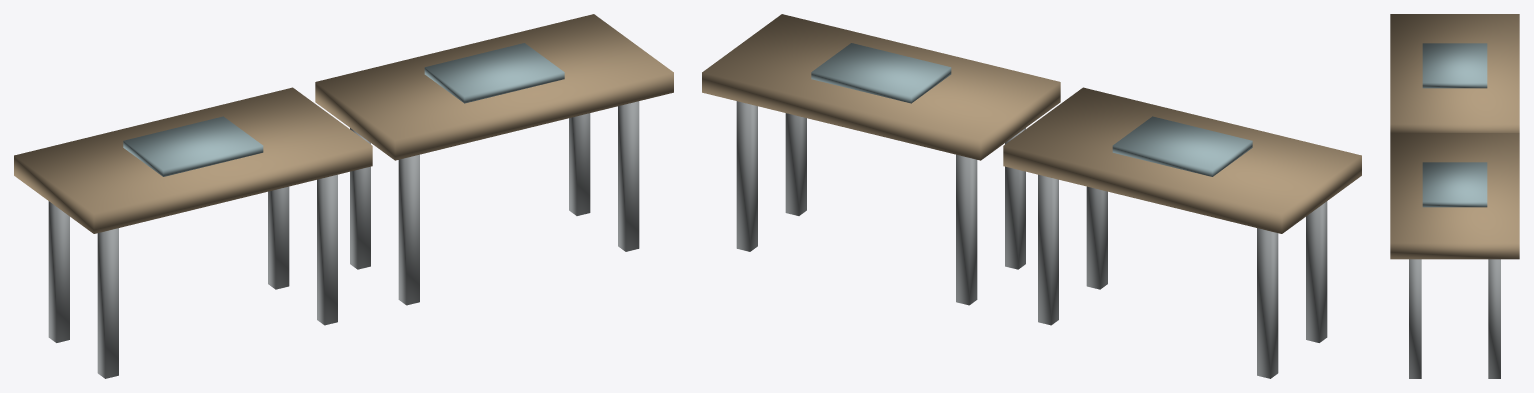
Rendered from material_inspection_table__cluster.glb.
The picture shows the model from 3 angles, left to right: view 1: azimuth 30°, elevation 25°; view 2: azimuth 150°, elevation 25°; view 3: azimuth 270°, elevation 25°; orthographic projection. The views are drawn at different scales.
Visible parts, largest first — view 1: world; view 2: world; view 3: world.
Part boxes in pixels (<box>): world: <box>14,14,673,378</box>; world: <box>702,14,1361,378</box>; world: <box>1390,14,1519,378</box>.
Bounding box in the file's own units: 3.02 × 0.9275 × 0.72.
